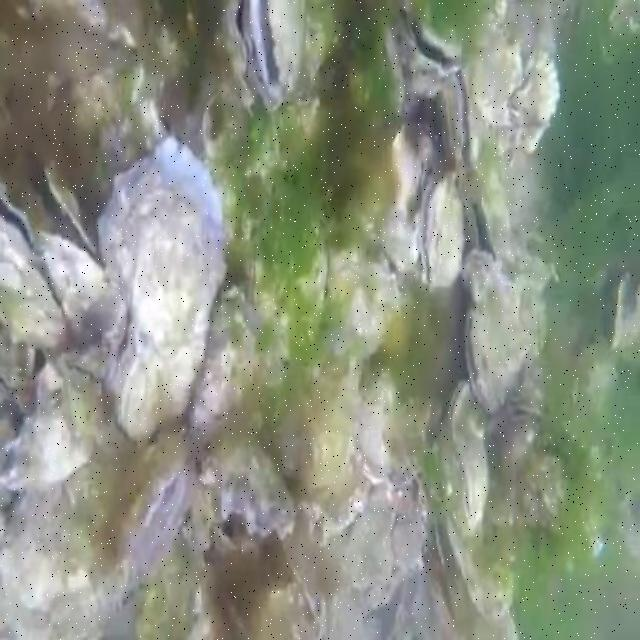Oyster-Closed: (100, 139, 227, 442), (464, 259, 548, 414), (248, 211, 324, 380), (38, 228, 127, 350), (193, 290, 264, 433), (434, 502, 514, 623), (352, 374, 418, 488), (6, 407, 91, 491), (448, 380, 490, 533), (470, 23, 523, 125), (46, 168, 97, 259), (509, 49, 559, 128), (346, 505, 393, 588), (221, 0, 254, 116), (377, 217, 418, 268), (395, 516, 422, 554), (193, 501, 212, 549), (507, 404, 543, 425), (0, 365, 19, 397)
Oyster-Open: (203, 426, 298, 541), (0, 184, 62, 350), (122, 443, 188, 580), (397, 4, 462, 100), (245, 0, 306, 99), (416, 172, 467, 286), (436, 71, 479, 168), (63, 355, 110, 394), (614, 271, 638, 347), (466, 197, 495, 255)
